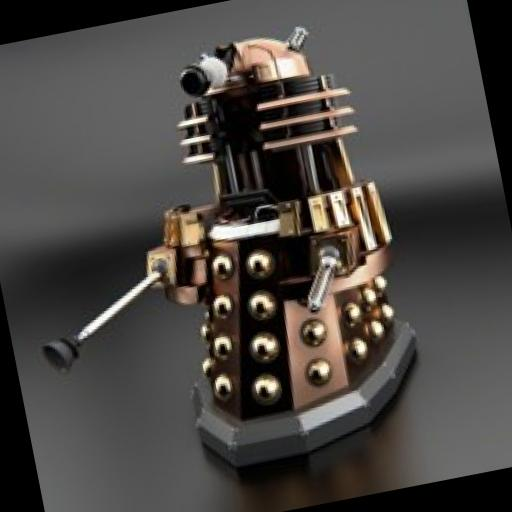dalek: (0, 8, 443, 508)
